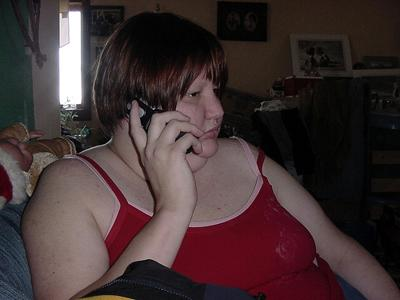person: (23, 12, 400, 300)
